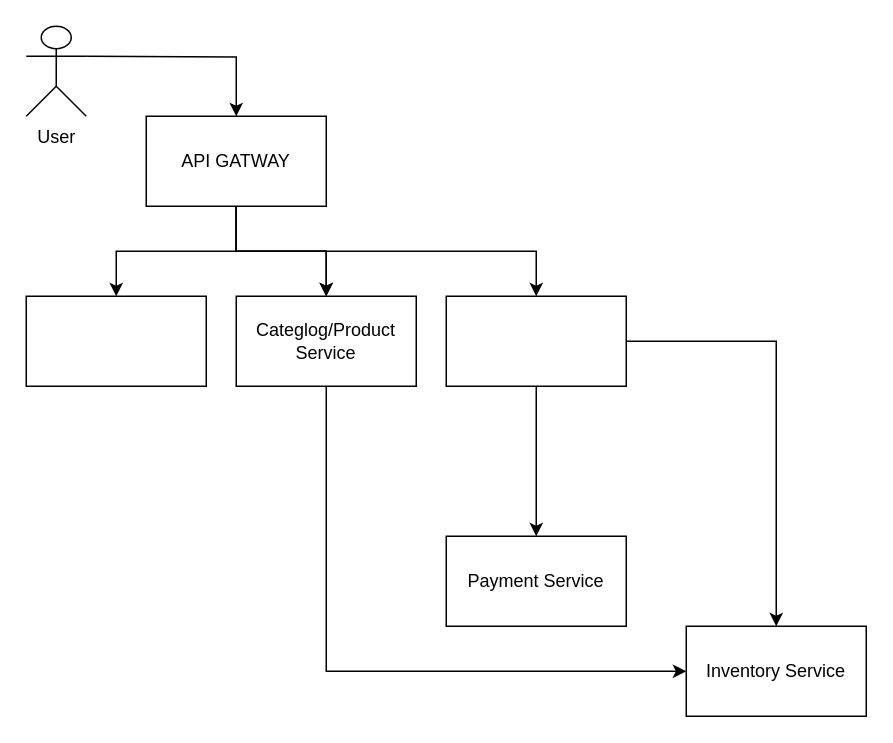
Image size: 893x743. Some labels were removed from this diagram. Here are the shapes that lost their labels. From the top down, the box of each, then its label:
(25, 295, 206, 386): User/Login/Siugnup
(445, 295, 626, 386): Order Service
